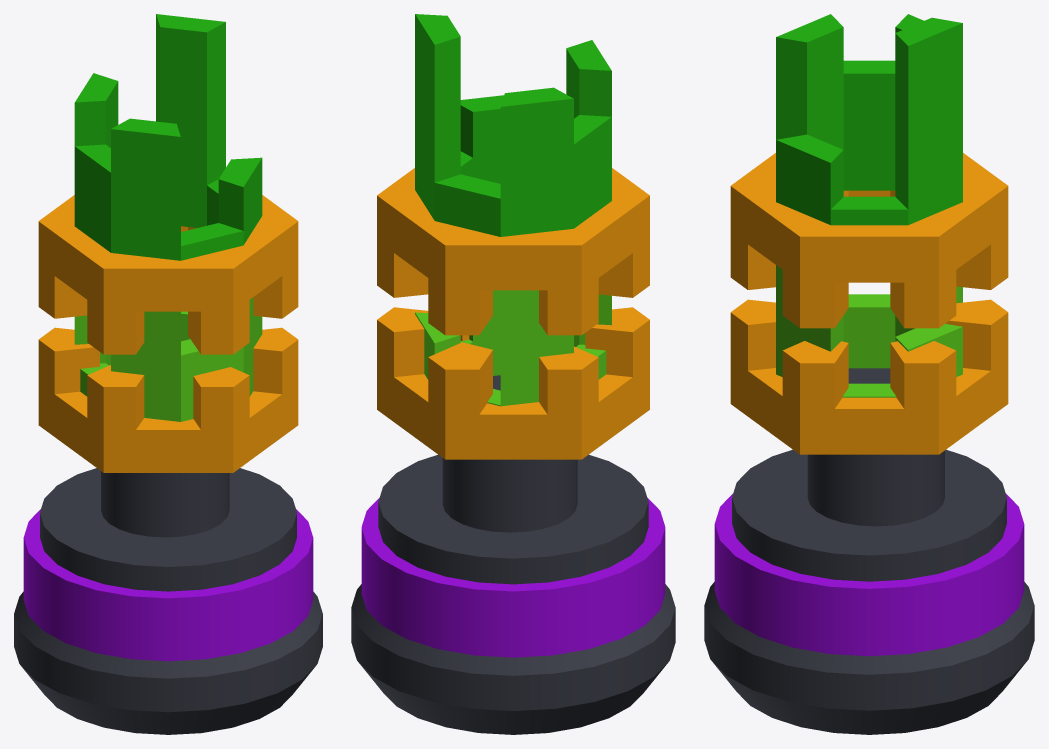
Rendered from tower_monkey_king_jade.obj.
3 renders of one model, left to right at view 1: azimuth 30°, elevation 25°; view 2: azimuth 150°, elevation 25°; view 3: azimuth 270°, elevation 25°, orthographic. The views are drawn at different scales.
Parts seen in each view (by area): view 1: mergedBlocks; view 2: mergedBlocks; view 3: mergedBlocks.
Boxes of the visible parts, box(x1,y1,x2,y2) form: mergedBlocks: box(14, 14, 322, 734); mergedBlocks: box(351, 14, 675, 734); mergedBlocks: box(704, 14, 1034, 734).
Size of the model in its own units: 0.96 by 2.15 by 0.96.
